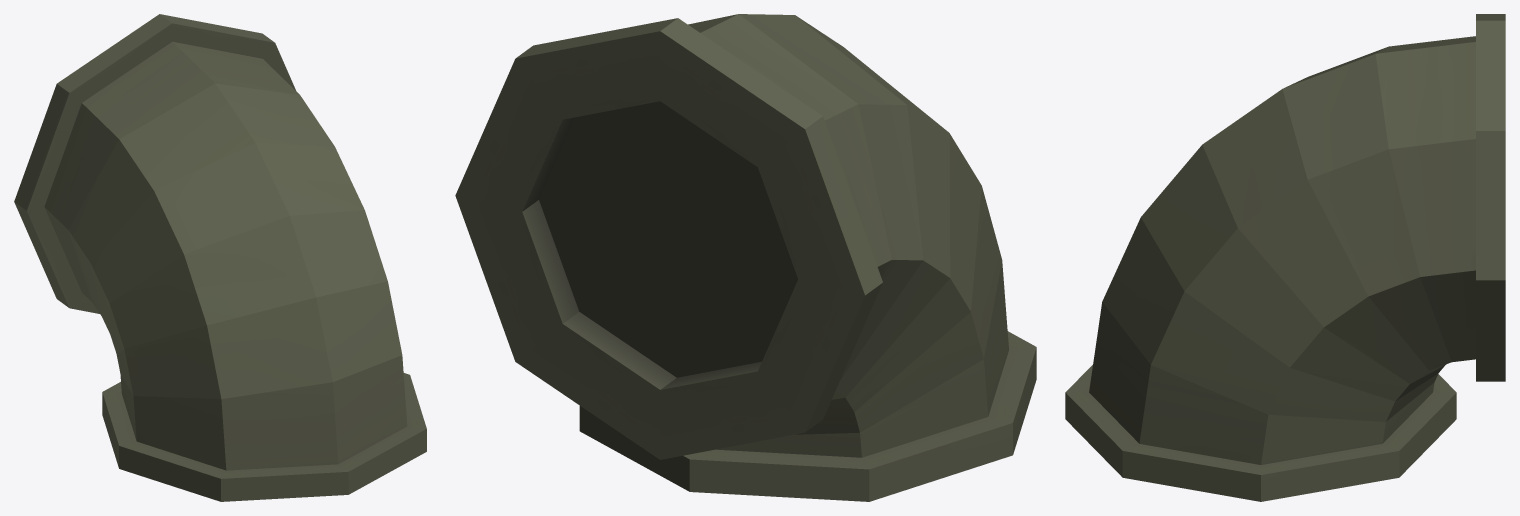
Rendered from SM_EN_Pipe_2.fbx.
3 renders of one model, left to right at view 1: azimuth 30°, elevation 25°; view 2: azimuth 150°, elevation 25°; view 3: azimuth 270°, elevation 25°, orthographic. The views are drawn at different scales.
Parts seen in each view (by area): view 1: SM_EN_Pipe_2; view 2: SM_EN_Pipe_2; view 3: SM_EN_Pipe_2.
Part boxes in pixels (bbox=[...]): SM_EN_Pipe_2: bbox=[14, 14, 426, 501]; SM_EN_Pipe_2: bbox=[455, 14, 1036, 501]; SM_EN_Pipe_2: bbox=[1065, 14, 1505, 501].
Bounding box in the file's own units: 80 × 90 × 90.
